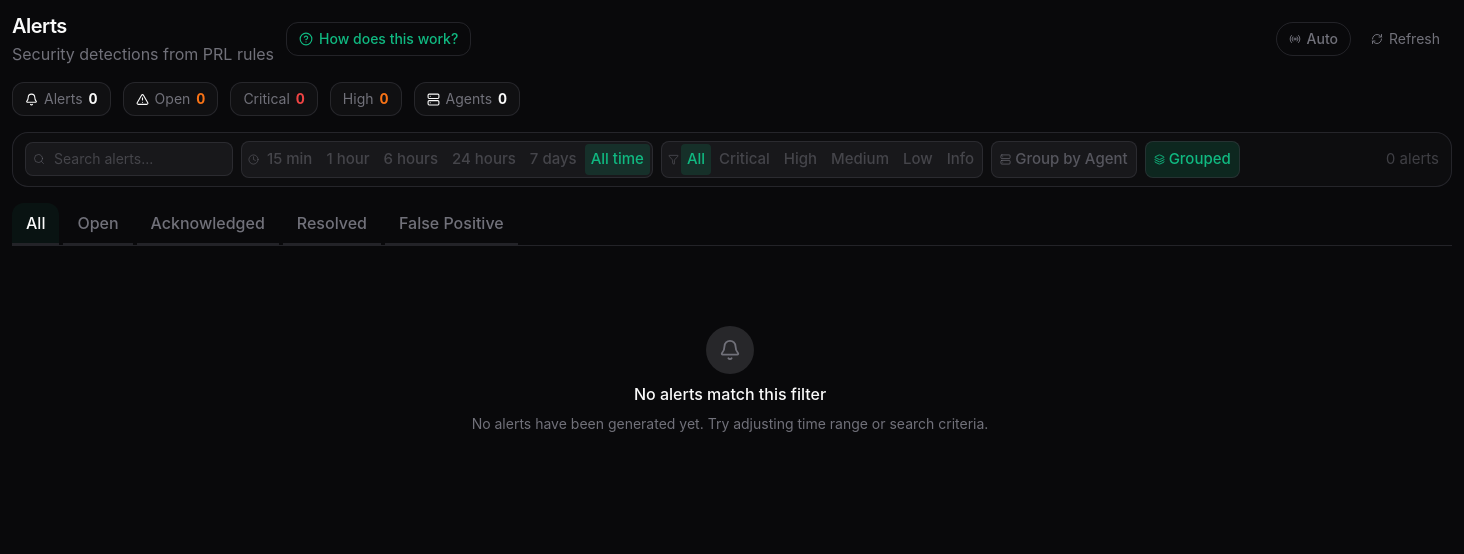
Scenario: AlertsPage › can toggle between grouped and flat view
Click the button "Grouped" at (1192, 159), box [1145,141,1240,178]
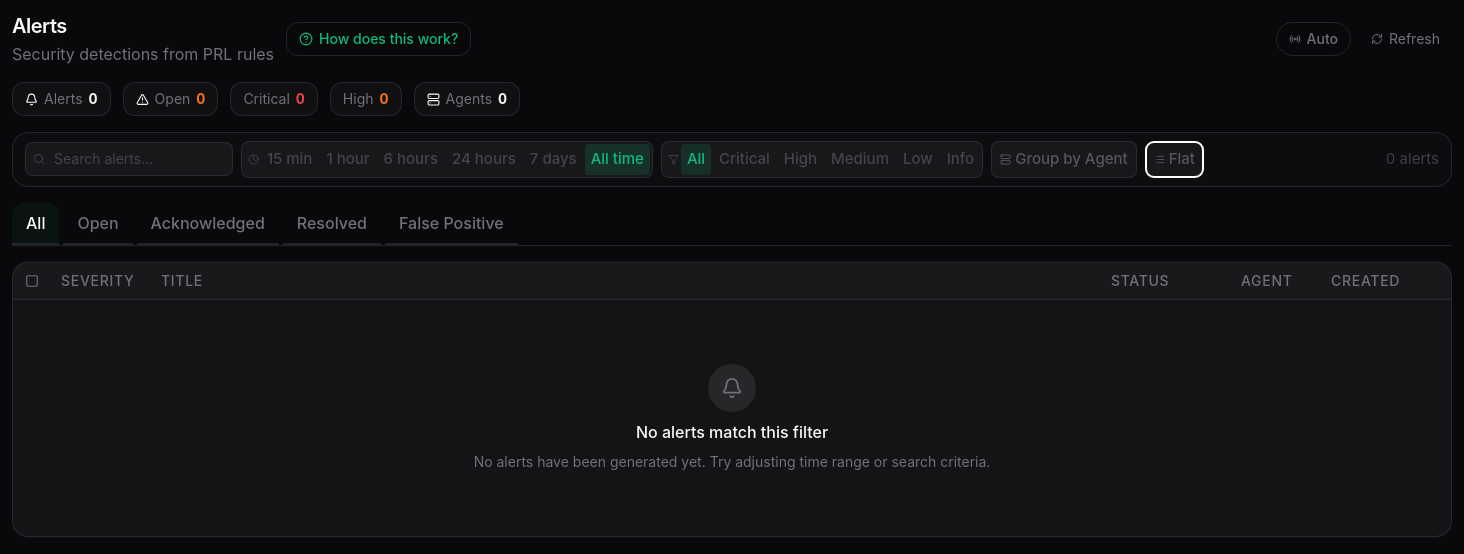
Check: the button "Flat" is shown, box [1145,141,1204,178]
